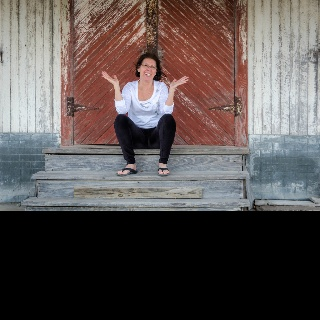without_mask: (139, 57, 156, 80)
